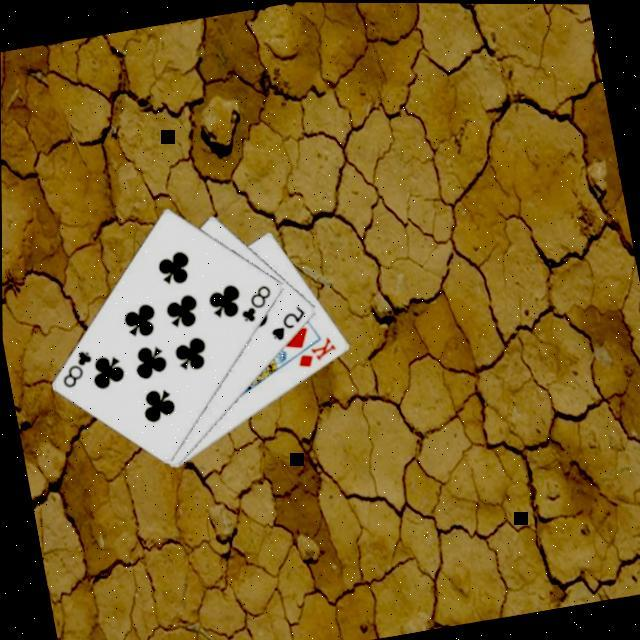5S: (264, 302, 314, 346)
8C: (234, 281, 280, 328), (55, 346, 100, 393)
KD: (292, 333, 342, 373)
